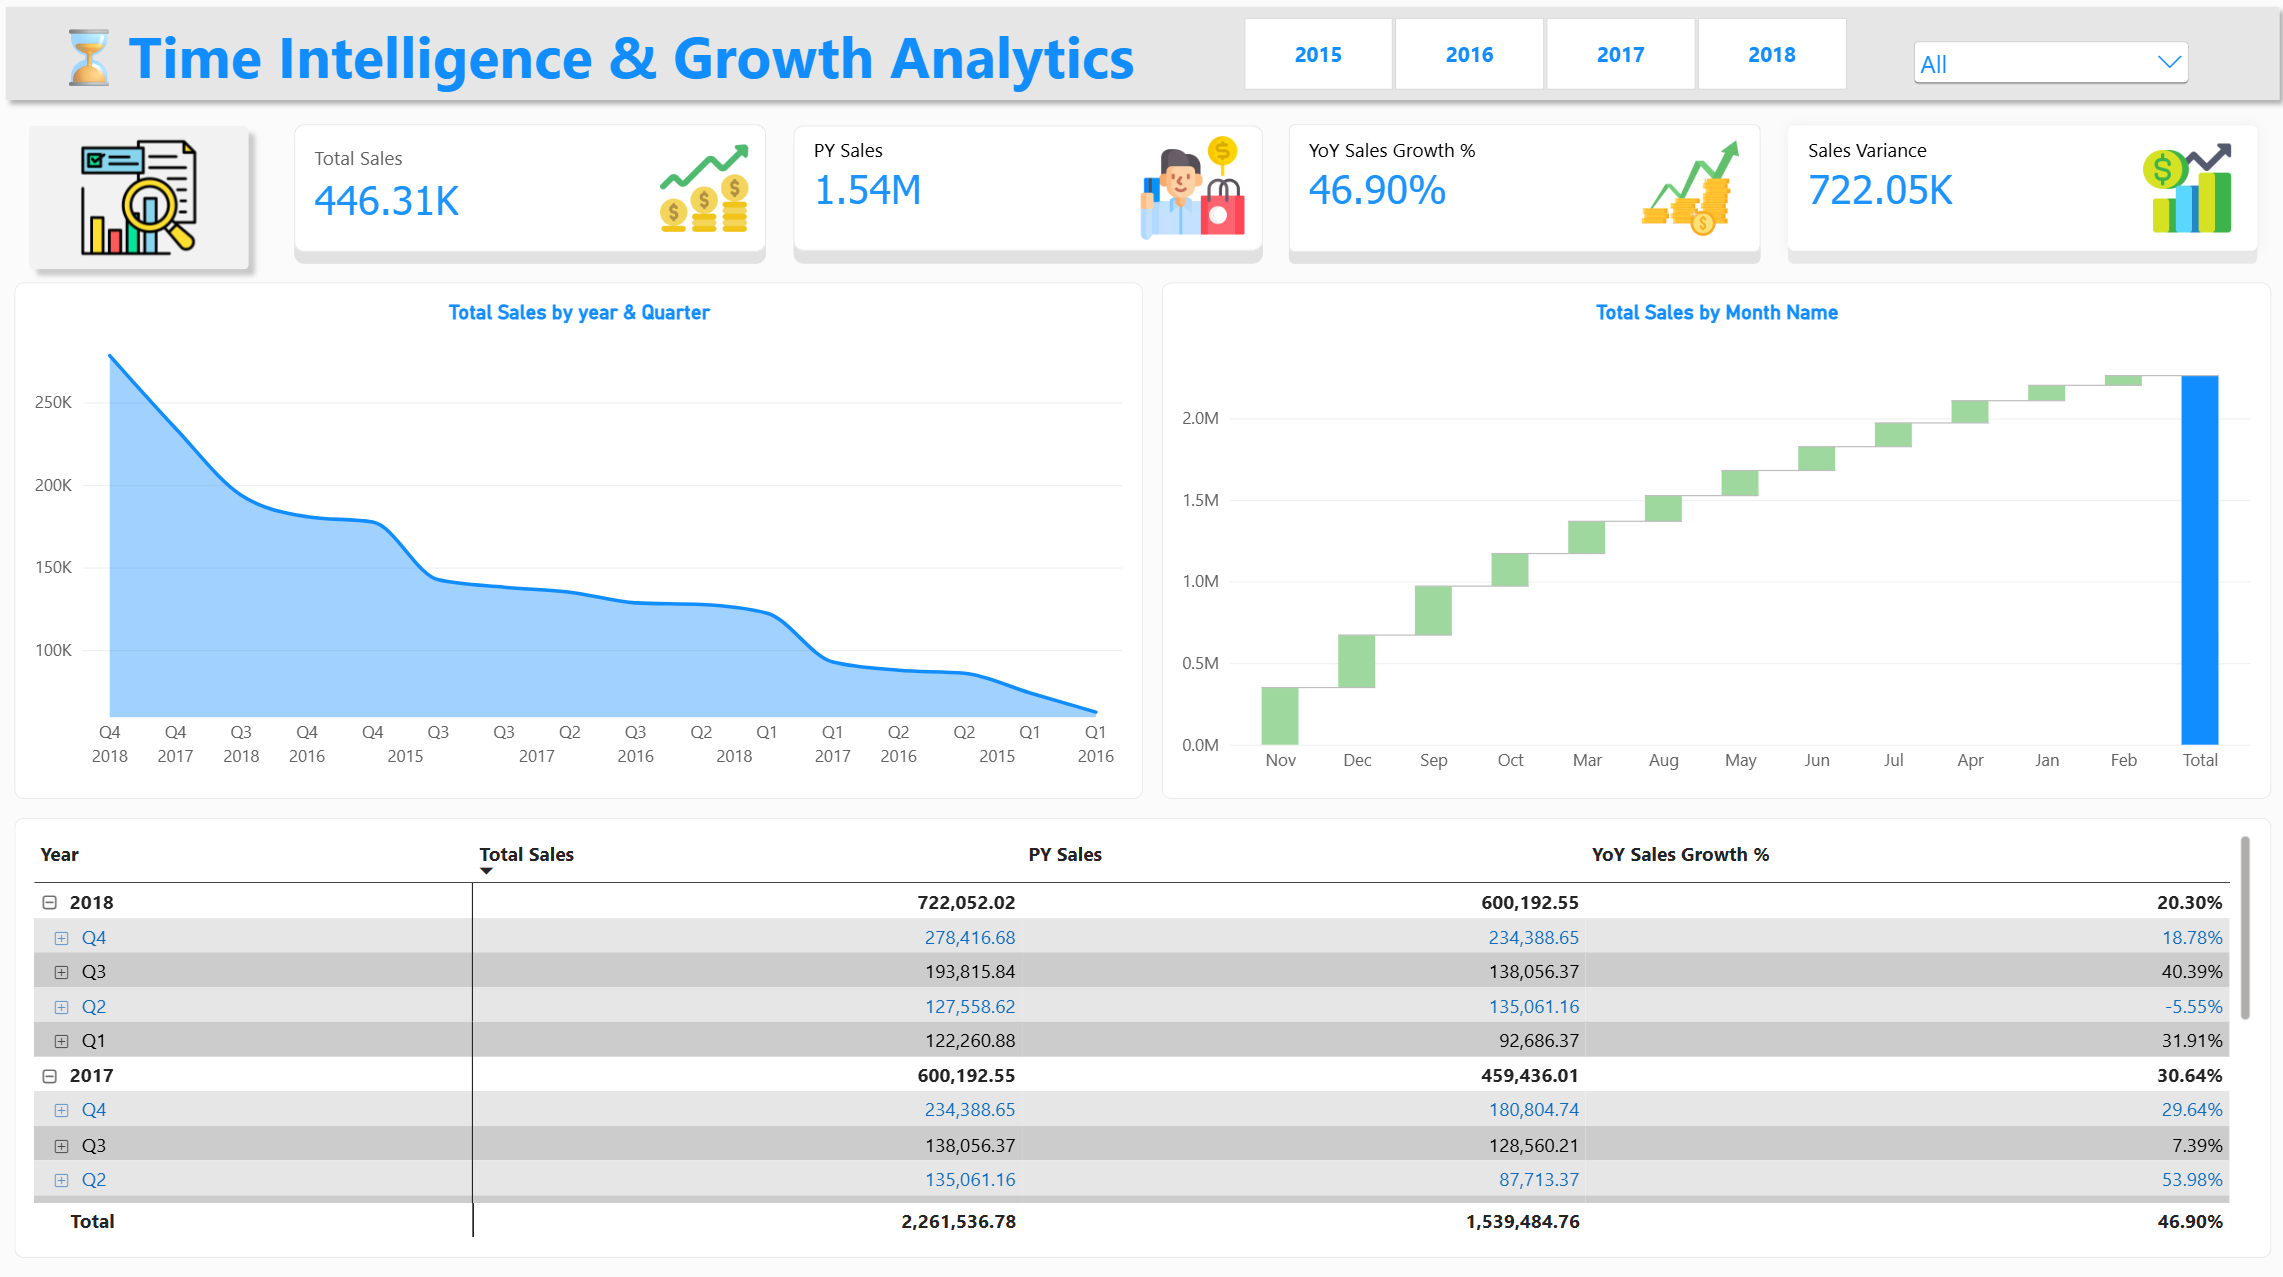

The page's visual inventory and layout, read from the dashboard file:
{"tool":"powerbi","page":{"name":"Growth & Time","canvas":[1920,1080],"ordinal":3},"visuals":[{"type":"shape","box":[0,0,1920,96],"z":0},{"type":"textbox","box":[32,16,944,64],"z":1000},{"type":"slicer","fields":{"Values":["Dim_Date.Year"]},"box":[1024,16,544,64],"z":2000},{"type":"slicer","fields":{"Values":["Dim_Date.Quarter"]},"box":[1600,32,240,48],"z":3000},{"type":"cardVisual","fields":{"Data":["_Measures.Total Sales"]},"box":[272,112,416,144],"z":4000},{"type":"cardVisual","fields":{"Data":["_Measures.Sales Variance"]},"box":[1504,112,400,144],"z":5000},{"type":"cardVisual","fields":{"Data":["_Measures.PY Sales"]},"box":[688,112,416,144],"z":6000},{"type":"cardVisual","fields":{"Data":["_Measures.YoY Sales Growth %"]},"box":[1104,112,400,144],"z":7000},{"type":"areaChart","title":"Total Sales by year & Quarter","fields":{"Category":["Dim_Date.Year","Dim_Date.Quarter"],"Y":["_Measures.Total Sales"]},"box":[16,272,944,416],"z":8000},{"type":"waterfallChart","fields":{"Category":["Dim_Date.Month Name"],"Y":["_Measures.Total Sales"]},"box":[976,272,928,416],"z":9000},{"type":"pivotTable","fields":{"Rows":["Dim_Date.Year","Dim_Date.Quarter","Dim_Date.Month Name"],"Values":["_Measures.Total Sales","_Measures.PY Sales","_Measures.YoY Sales Growth %"]},"box":[16,704,1888,352],"z":10000},{"type":"actionButton","box":[16,112,224,144],"z":11000}]}

Visuals, with their boxes in screenshot pixels (x1, y1, x2, y2), scaled from the page's 1920x1080 canvas onto the 2283x1277 screenshot:
shape: bbox=(0, 0, 2282, 114)
textbox: bbox=(38, 19, 1161, 95)
slicer - Dim_Date.Year: bbox=(1218, 19, 1864, 95)
slicer - Dim_Date.Quarter: bbox=(1902, 38, 2188, 95)
cardVisual - _Measures.Total Sales: bbox=(323, 132, 818, 303)
cardVisual - _Measures.Sales Variance: bbox=(1788, 132, 2264, 303)
cardVisual - _Measures.PY Sales: bbox=(818, 132, 1313, 303)
cardVisual - _Measures.YoY Sales Growth %: bbox=(1313, 132, 1788, 303)
"Total Sales by year & Quarter" areaChart: bbox=(19, 322, 1142, 813)
waterfallChart - Dim_Date.Month Name x _Measures.Total Sales: bbox=(1161, 322, 2264, 813)
pivotTable - Dim_Date.Year x Dim_Date.Quarter: bbox=(19, 832, 2264, 1249)
actionButton: bbox=(19, 132, 285, 303)
